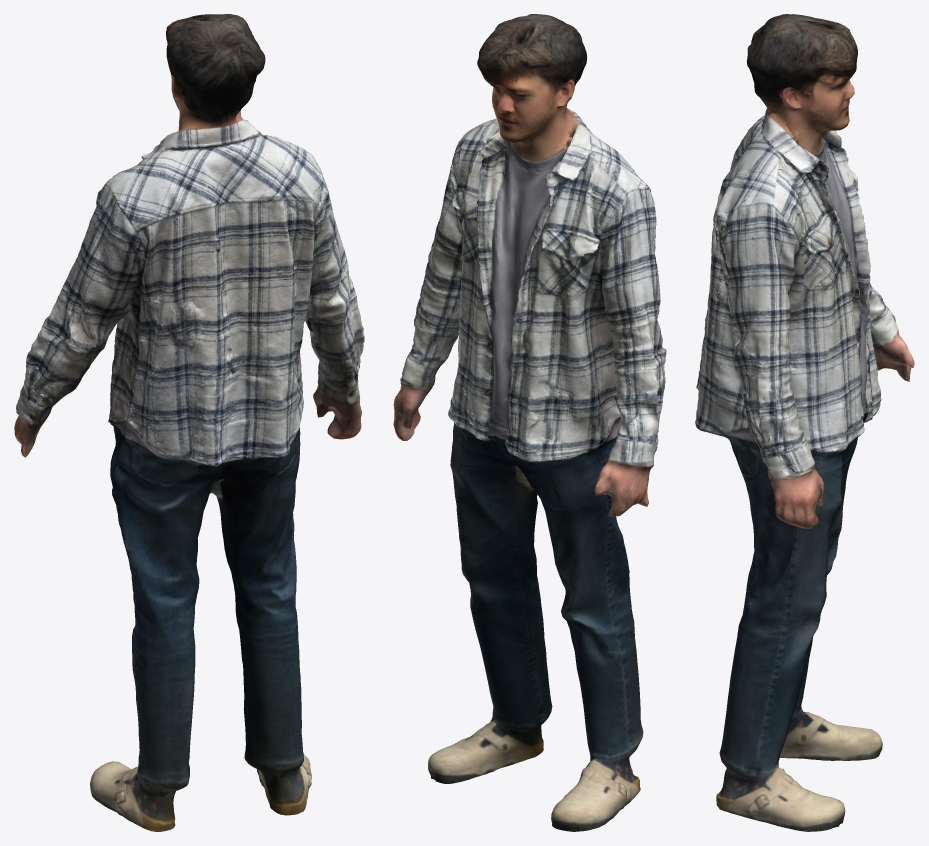
File: Model2_github.glb
The picture shows the model from 3 angles, left to right: view 1: azimuth 30°, elevation 25°; view 2: azimuth 150°, elevation 25°; view 3: azimuth 270°, elevation 25°; orthographic projection.
Visible parts, largest first — view 1: Mesh_0; view 2: Mesh_0; view 3: Mesh_0.
Part boxes in pixels (bbox=[...]): Mesh_0: bbox=[14, 14, 364, 831]; Mesh_0: bbox=[393, 14, 666, 831]; Mesh_0: bbox=[695, 14, 914, 831].
Size of the model in its own units: 0.7034 by 1.75 by 0.4554.
1 material, 1 textured.
